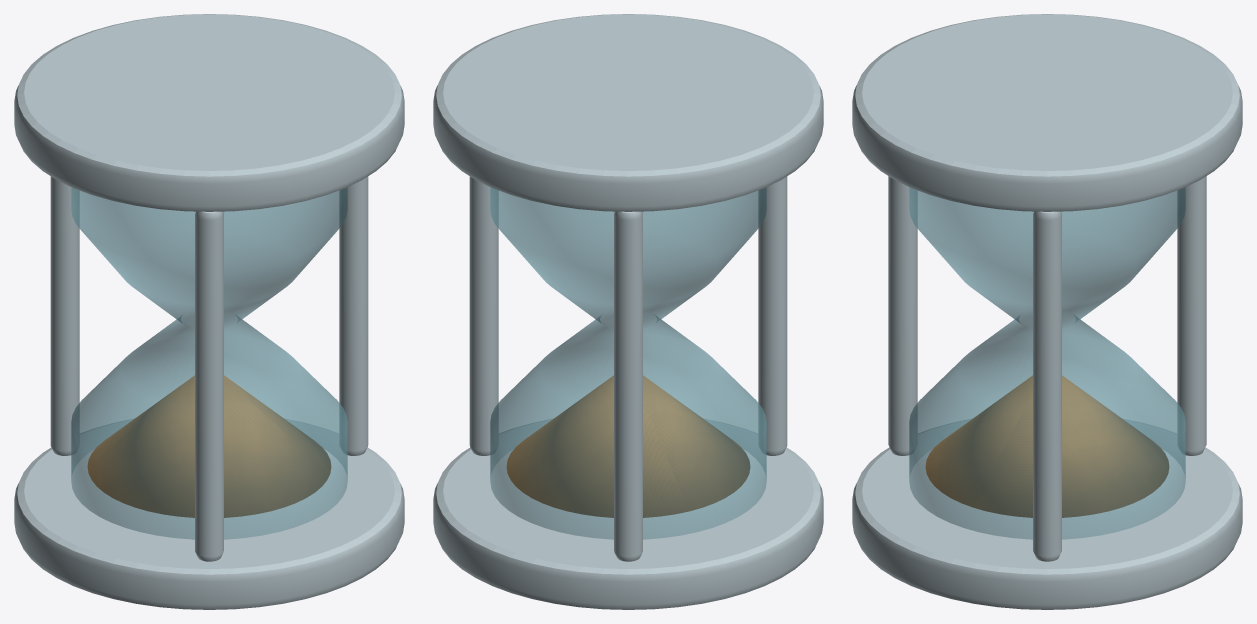
The model's file is relic_04.glb.
3 renders of one model, left to right at view 1: azimuth 30°, elevation 25°; view 2: azimuth 150°, elevation 25°; view 3: azimuth 270°, elevation 25°, orthographic.
Visible parts, largest first — view 1: Antique_silver, Smoked_crystal, Brushed_gold; view 2: Antique_silver, Smoked_crystal, Brushed_gold; view 3: Antique_silver, Smoked_crystal, Brushed_gold.
Part boxes in pixels (bbox=[...]): Antique_silver: bbox=[14, 14, 404, 609]; Smoked_crystal: bbox=[71, 187, 347, 539]; Brushed_gold: bbox=[87, 375, 331, 517]; Antique_silver: bbox=[433, 14, 823, 609]; Smoked_crystal: bbox=[490, 187, 766, 539]; Brushed_gold: bbox=[506, 375, 750, 517]; Antique_silver: bbox=[852, 14, 1242, 609]; Smoked_crystal: bbox=[909, 187, 1185, 539]; Brushed_gold: bbox=[925, 375, 1169, 517].
Size of the model in its own units: 0.48 by 0.595 by 0.48.
3 materials, 1 textured.
